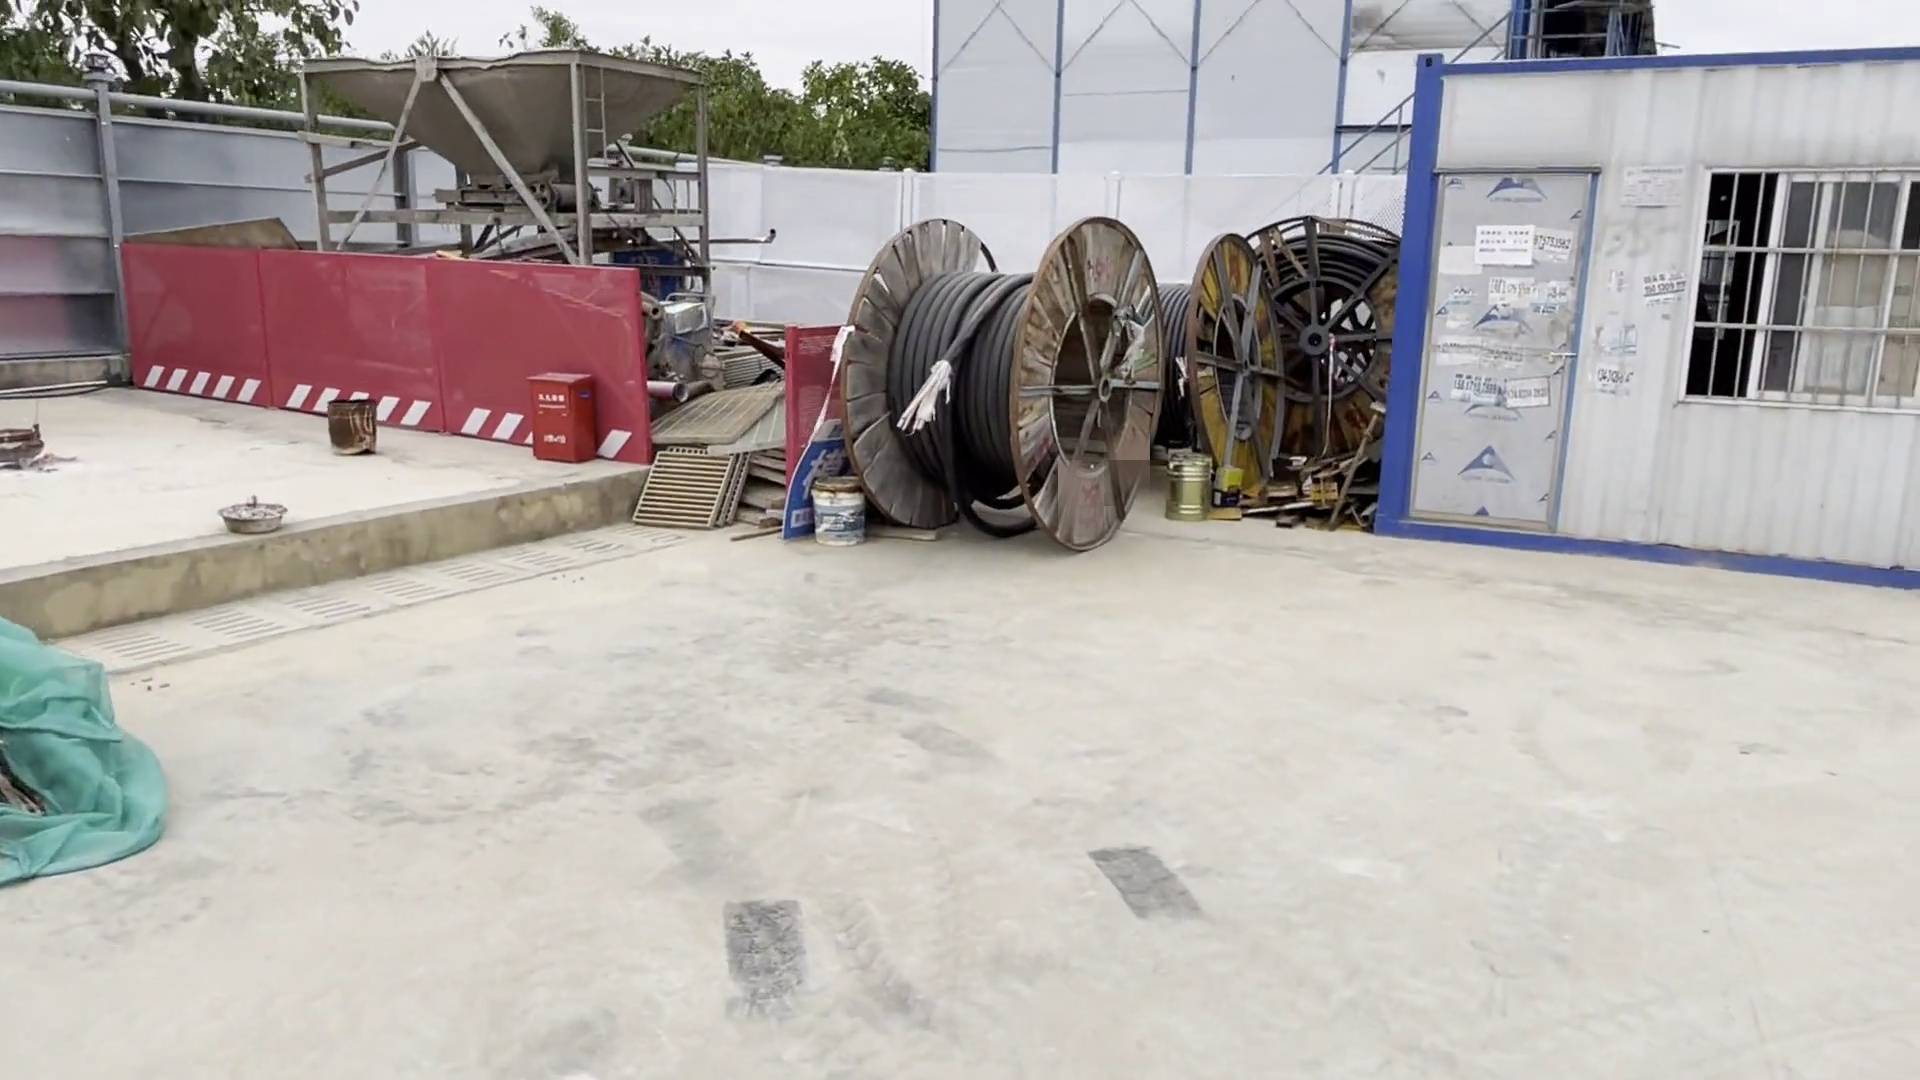fence: (104, 231, 641, 472)
